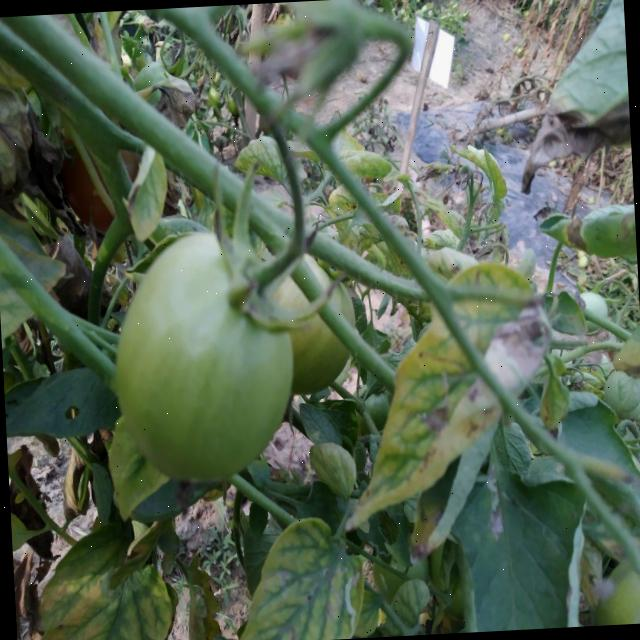Unripe: (108, 226, 293, 485)
